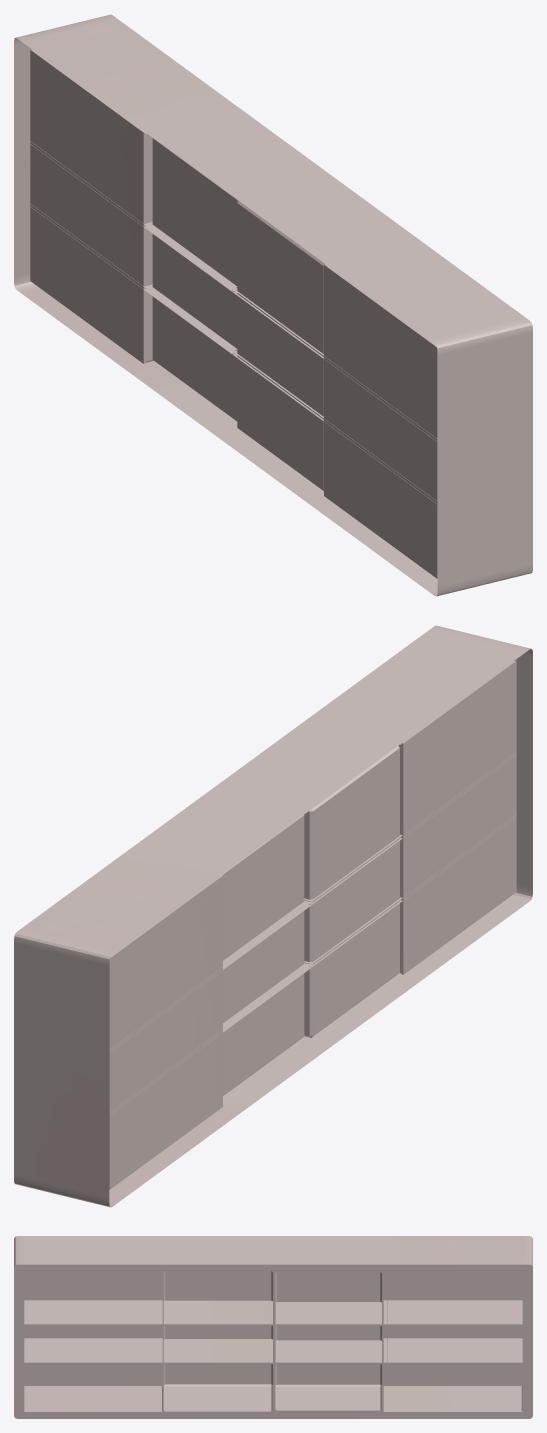
Rendered from kitchencupboard_base.glb.
3 views of the same model, one above another, from view 1: azimuth 30°, elevation 25°; view 2: azimuth 150°, elevation 25°; view 3: azimuth 270°, elevation 25° (orthographic). The views are drawn at different scales.
Visible parts, largest first — view 1: RC_Furn_CabinetTopShelf; view 2: RC_Furn_CabinetTopShelf; view 3: RC_Furn_CabinetTopShelf.
Boxes of the visible parts, x1,y1,x2,y2 form: RC_Furn_CabinetTopShelf: (14,14,532,596); RC_Furn_CabinetTopShelf: (14,625,532,1207); RC_Furn_CabinetTopShelf: (14,1236,532,1418).
Bounding box in the file's own units: 1.03 × 2.6 × 7.91.
1 material, 1 textured.
